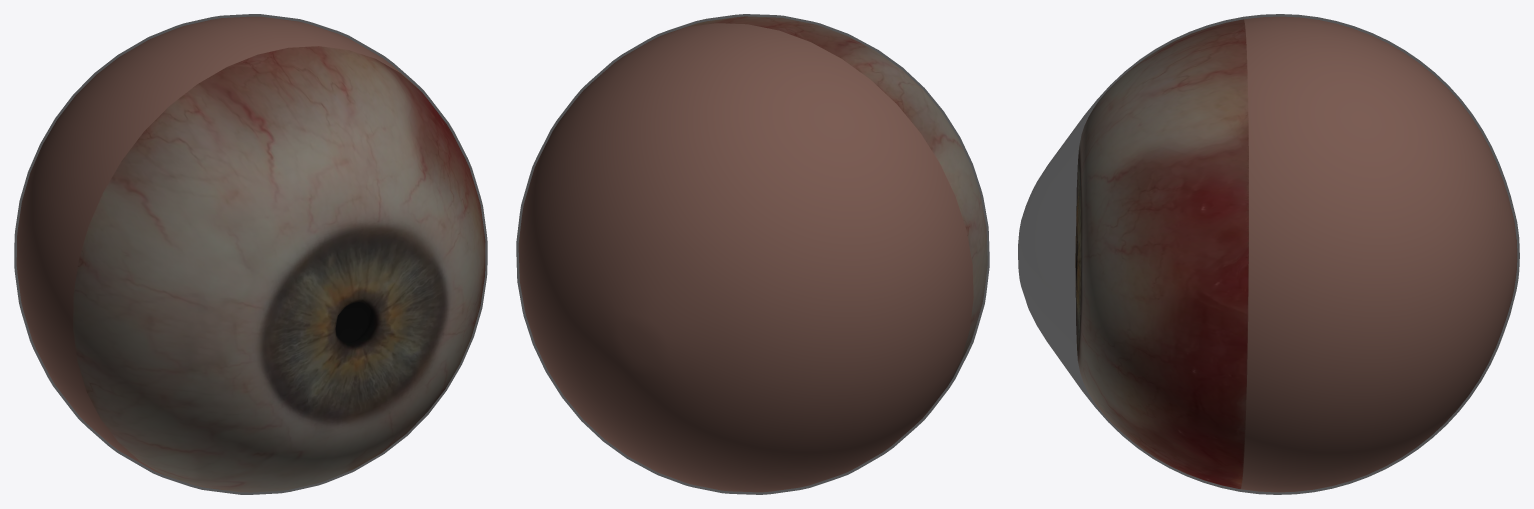
Rendered from eye.glb.
3 renders of one model, left to right at view 1: azimuth 30°, elevation 25°; view 2: azimuth 150°, elevation 25°; view 3: azimuth 270°, elevation 25°, orthographic.
Visible parts, largest first — view 1: Eye_1_R_aiStandard3_0, Eye_2_R_Eyes_0; view 2: Eye_1_R_aiStandard3_0, Eye_2_R_Eyes_0; view 3: Eye_1_R_aiStandard3_0, Eye_2_R_Eyes_0.
Part boxes in pixels (x1=…): Eye_1_R_aiStandard3_0: x1=14, y1=14, x2=487, y2=494; Eye_2_R_Eyes_0: x1=16, y1=16, x2=485, y2=492; Eye_1_R_aiStandard3_0: x1=516, y1=14, x2=989, y2=494; Eye_2_R_Eyes_0: x1=518, y1=16, x2=987, y2=492; Eye_1_R_aiStandard3_0: x1=1018, y1=14, x2=1519, y2=494; Eye_2_R_Eyes_0: x1=1075, y1=16, x2=1517, y2=492.
Size of the model in its own units: 0.1563 by 0.1595 by 0.1659.
2 materials, 1 textured.
